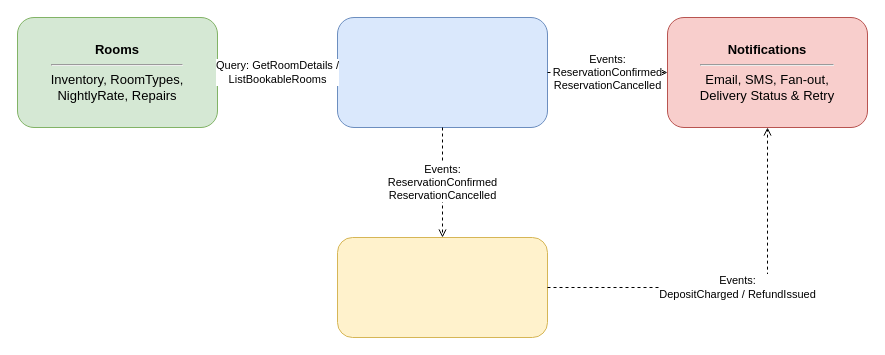
Image size: 885x355. Some labels were removed from this diagram. Each missing label, with the centre of its shape:
Payments 30% Deposit, Charges, Refunds, Balances: the point at 442,287
Reservations Stays, Overlap Check, Confirm / Cancel, History: the point at 442,72
